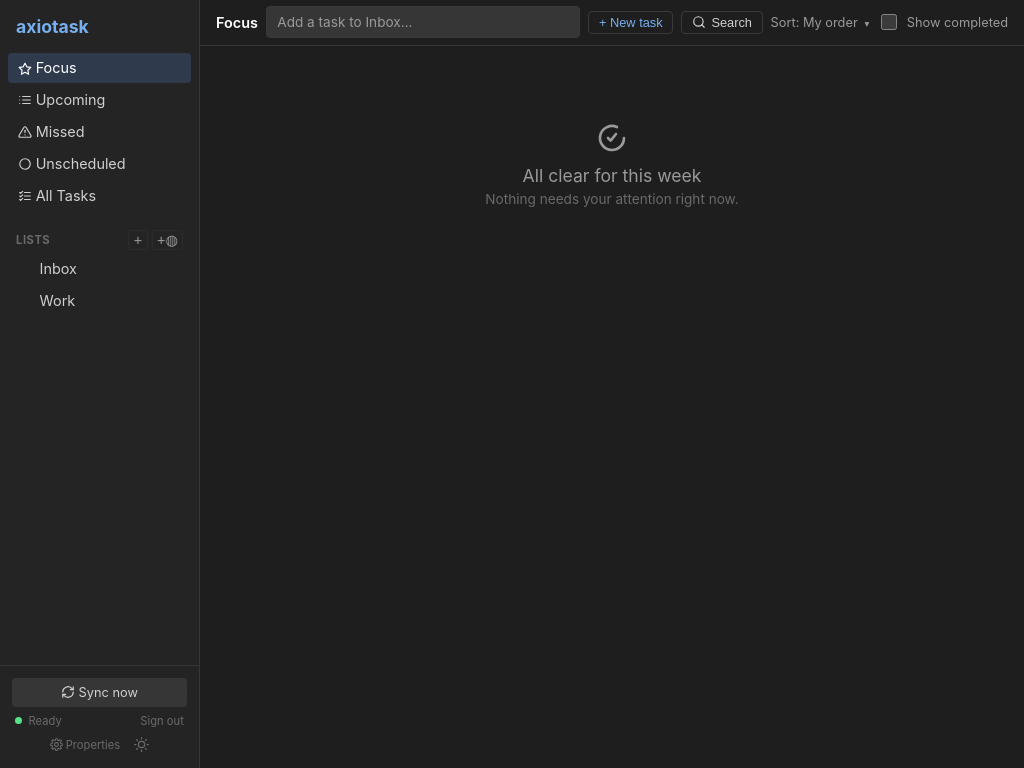
Test case: GH#3: Sync Pull › shows Synced timestamp after successful sync
Click the button "Sync now" at (100, 693), box [12,678,187,707]
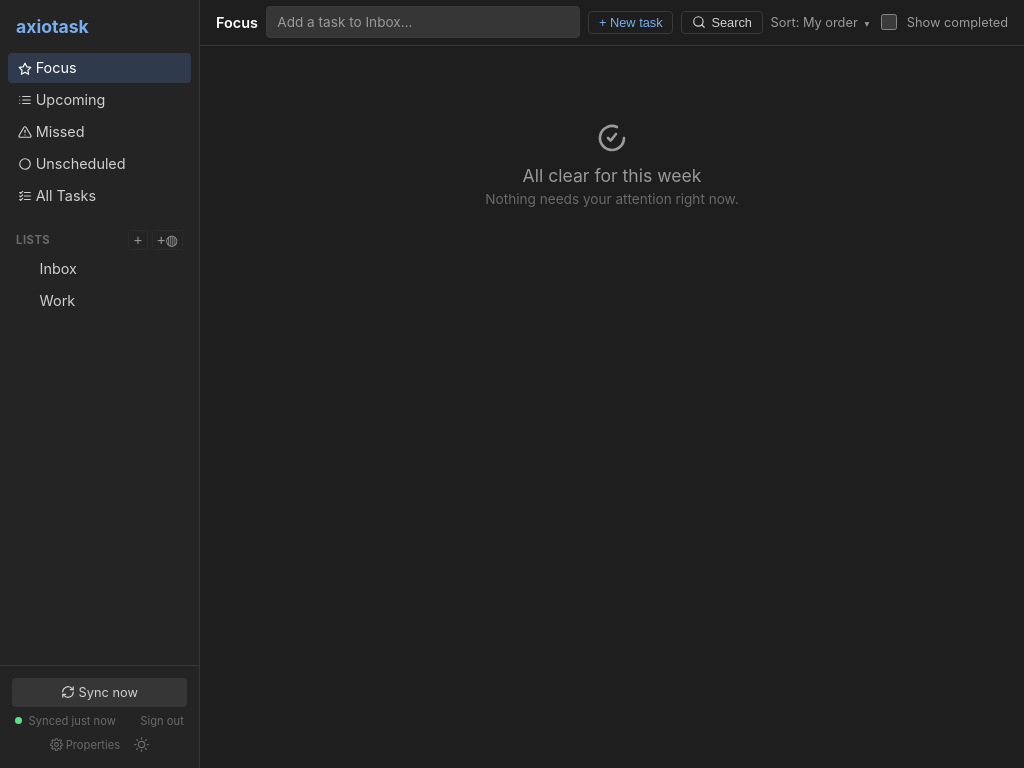
Check: the text "Synced just now" is shown, box [29,714,116,728]
